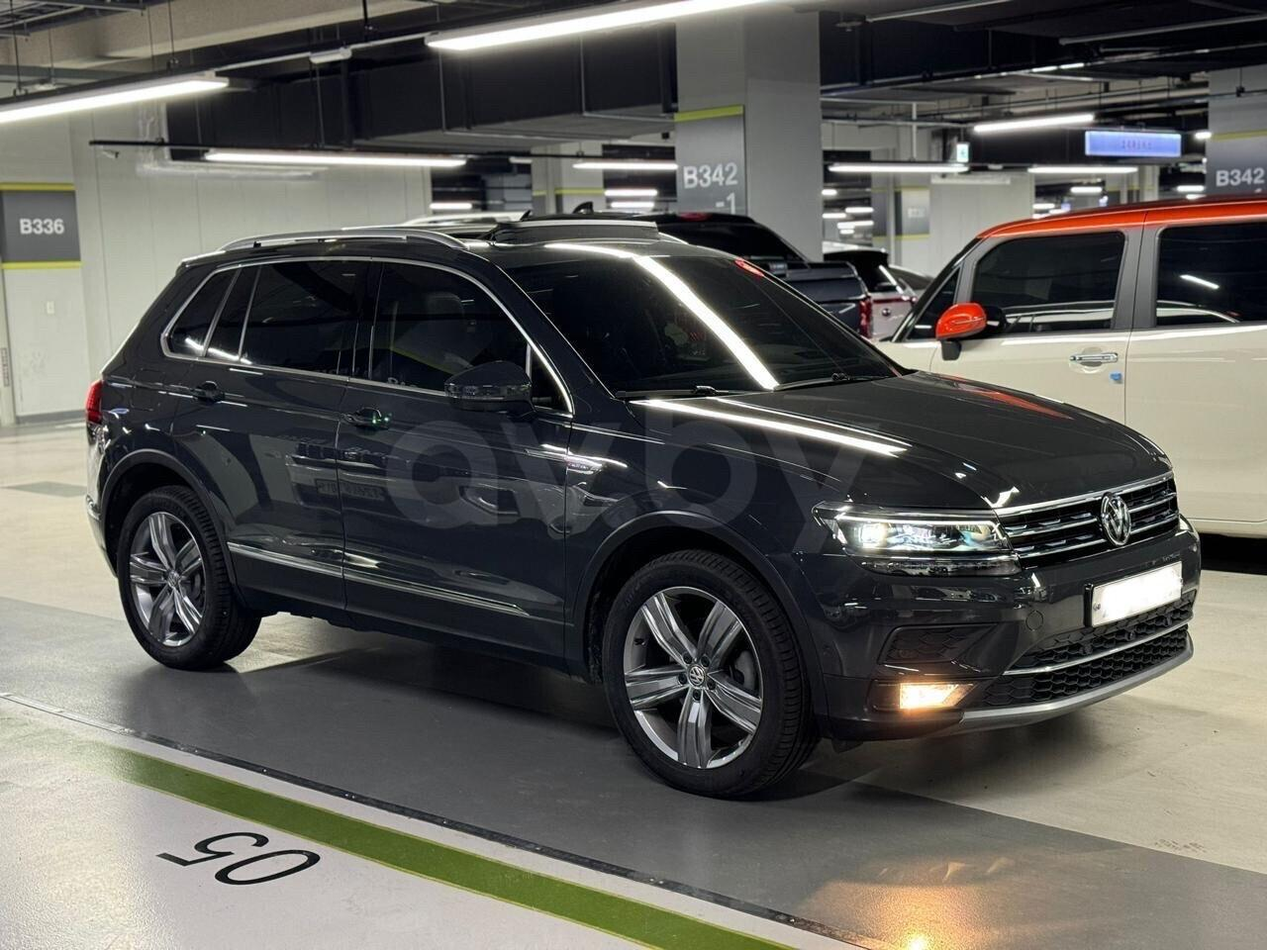Tiguan_2016-2021: (79, 224, 1208, 793)
